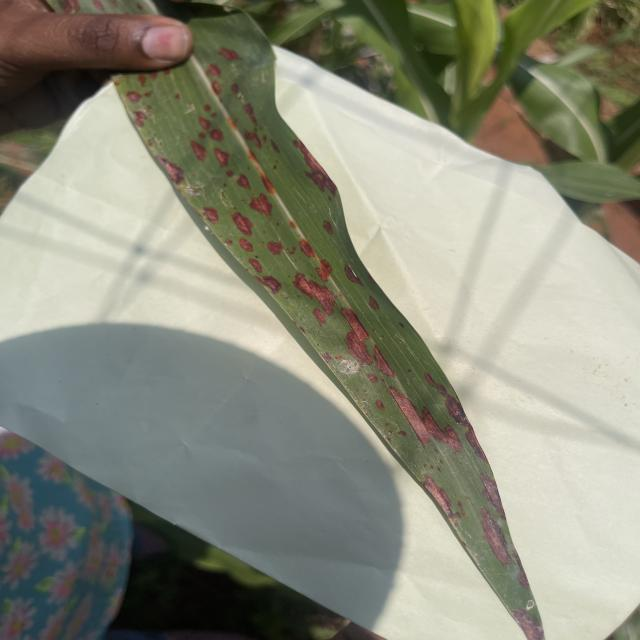millet_rust: (49, 0, 545, 640)
